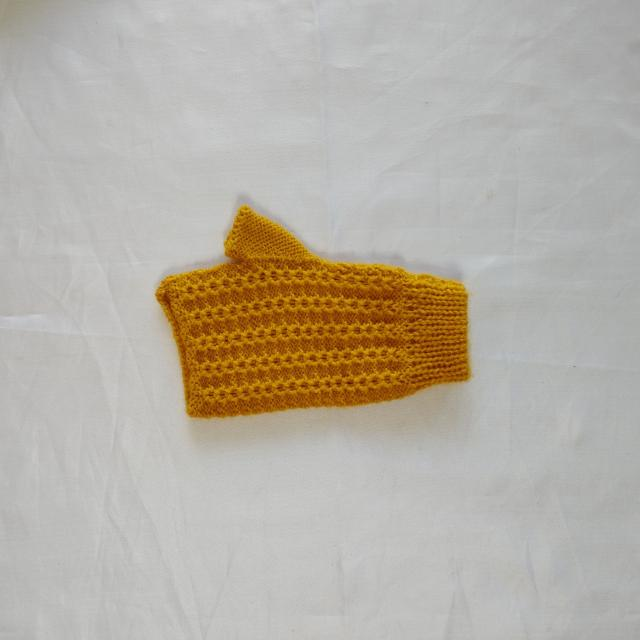Guante: (154, 204, 473, 419)
